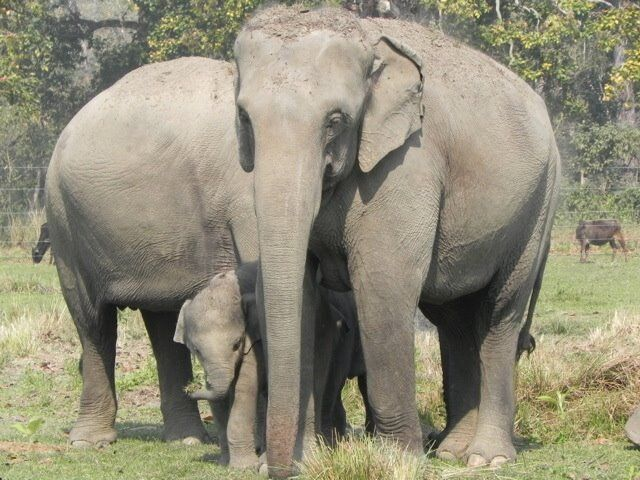elephant: (232, 1, 566, 480), (30, 41, 337, 457), (166, 271, 330, 480)
